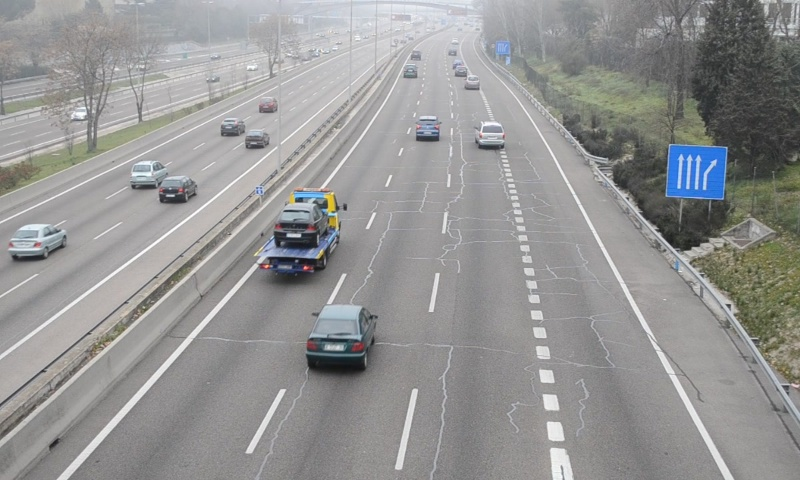car: (306, 306, 374, 364), (474, 121, 506, 149), (415, 115, 441, 141), (464, 74, 480, 90), (402, 64, 418, 78)
small-truck: (254, 187, 341, 274)
